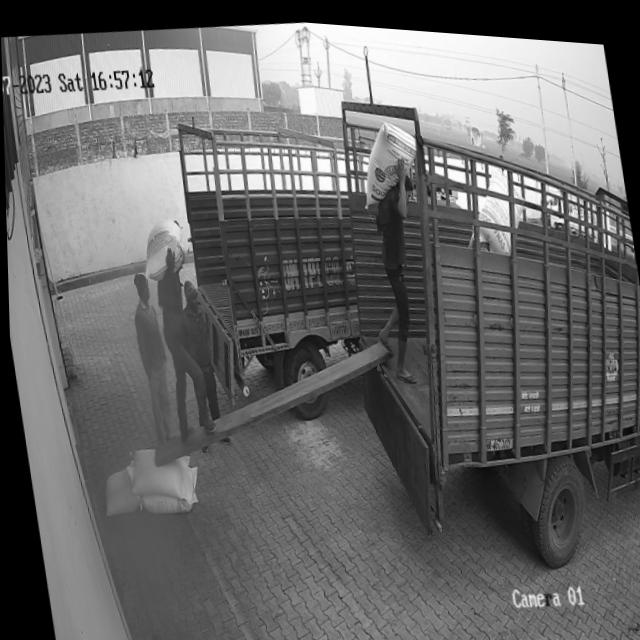sack: (458, 151, 532, 252), (352, 110, 424, 206), (121, 439, 192, 503), (132, 460, 199, 514), (135, 215, 186, 282), (95, 464, 139, 519)
